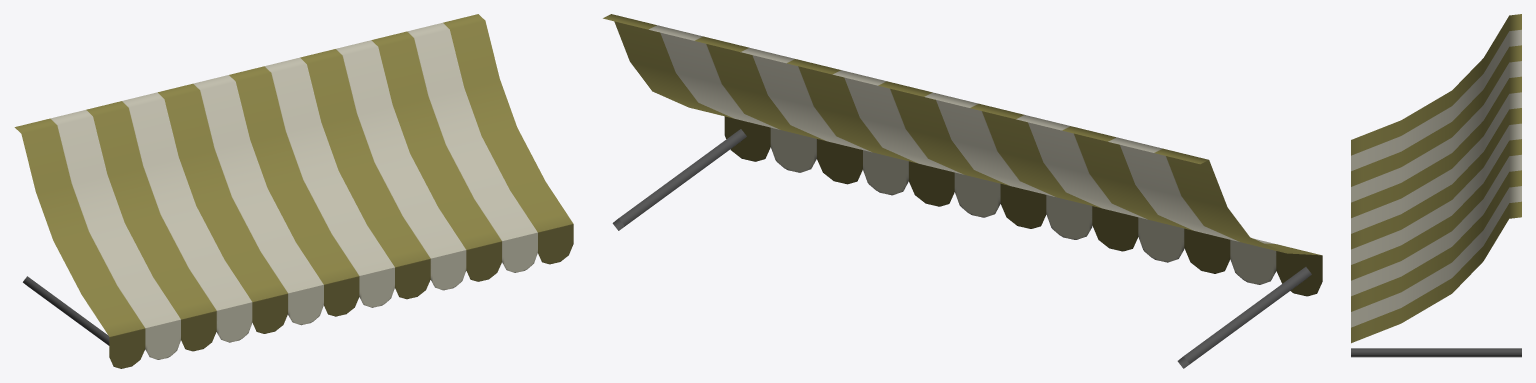
The model's file is Awning_A4.fbx.
3 views of the same model, side by side, from view 1: azimuth 30°, elevation 25°; view 2: azimuth 150°, elevation 25°; view 3: azimuth 270°, elevation 25° (orthographic). The views are drawn at different scales.
Parts seen in each view (by area): view 1: Awning_A4; view 2: Awning_A4; view 3: Awning_A4.
Part boxes in pixels (x1,y1,x2,y2): Awning_A4: (14, 14, 573, 368); Awning_A4: (603, 14, 1322, 368); Awning_A4: (1351, 14, 1521, 357).
Size of the model in its own units: 454 by 164 by 161.
Materials: 1 (1 with a texture image).
